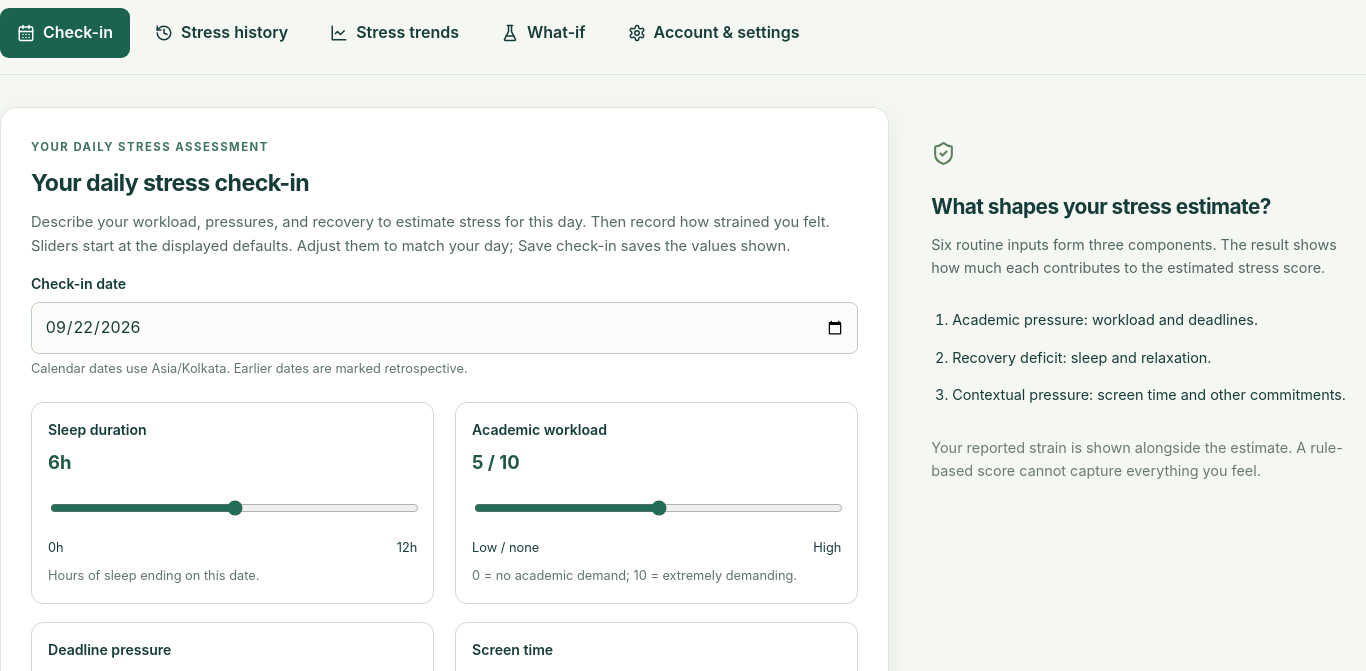
Test: shows missing pattern data explicitly with a table equivalent
What coordinates should you click on to do the following:
click the button "Stress trends"
I would click on:
 (395, 33)
Its box is [313,8,476,58].
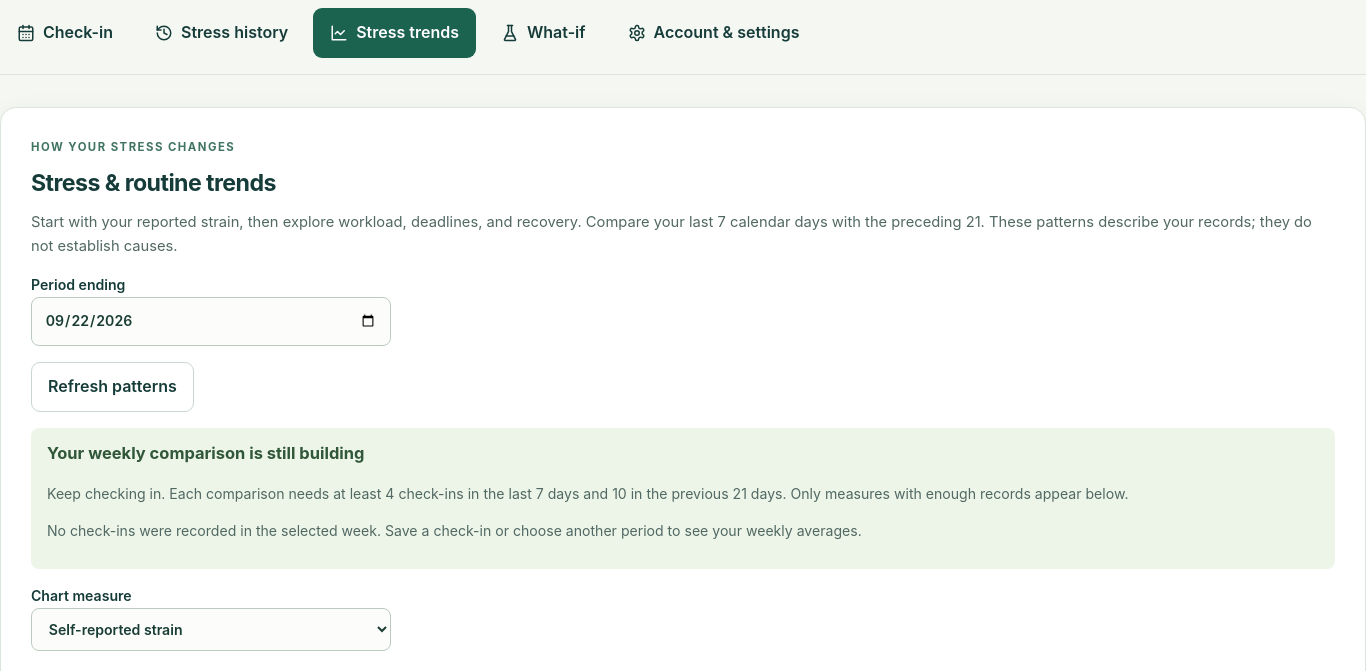
Expected: the heading "Your weekly comparison is still building" is shown, [47,443,364,463]
